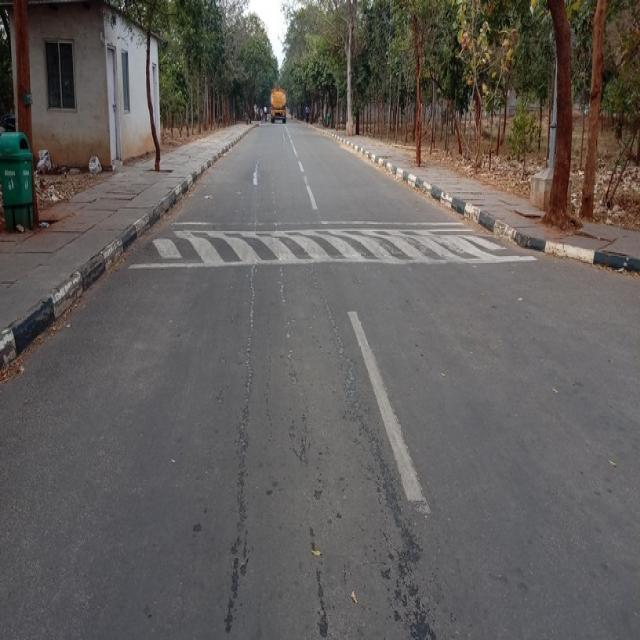speedbreaker: (135, 218, 491, 272)
